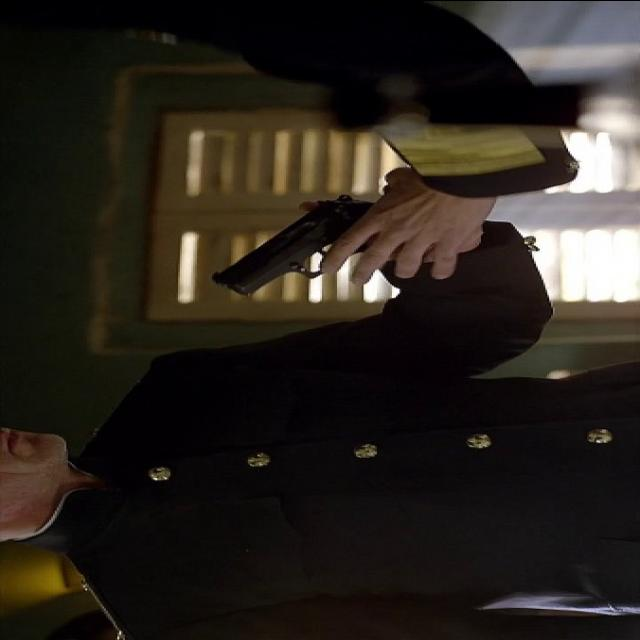weapons: (200, 170, 466, 314)
